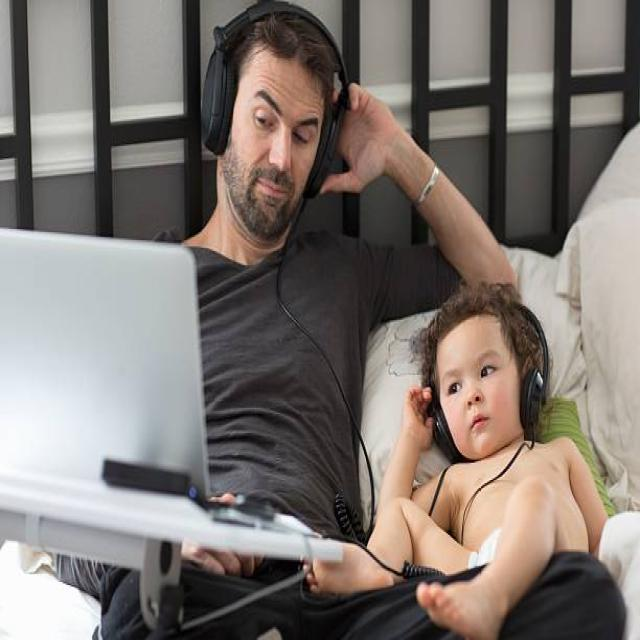Headphone: (200, 0, 354, 200), (424, 296, 550, 462)
